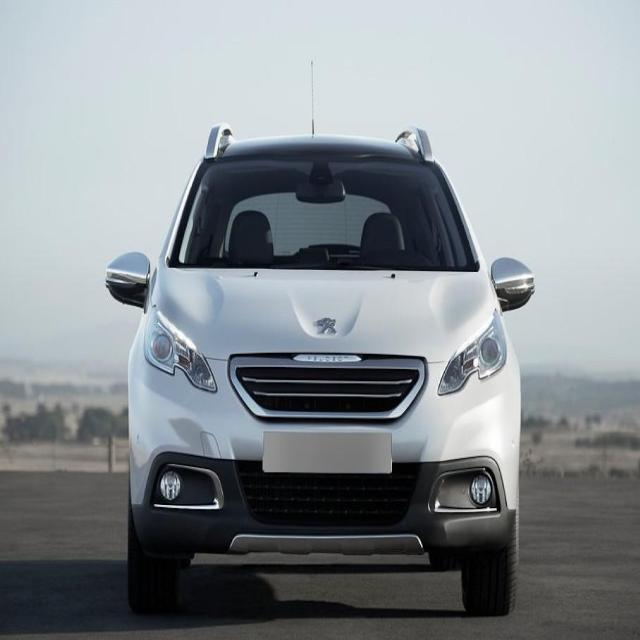front_bumper: (127, 349, 521, 555)
front_glass: (166, 155, 482, 273)
front_left_side_light: (437, 308, 508, 399)
front_left_side_mirror: (489, 253, 537, 311)
front_right_side_light: (143, 306, 219, 396)
front_right_side_mirror: (101, 248, 151, 311)
